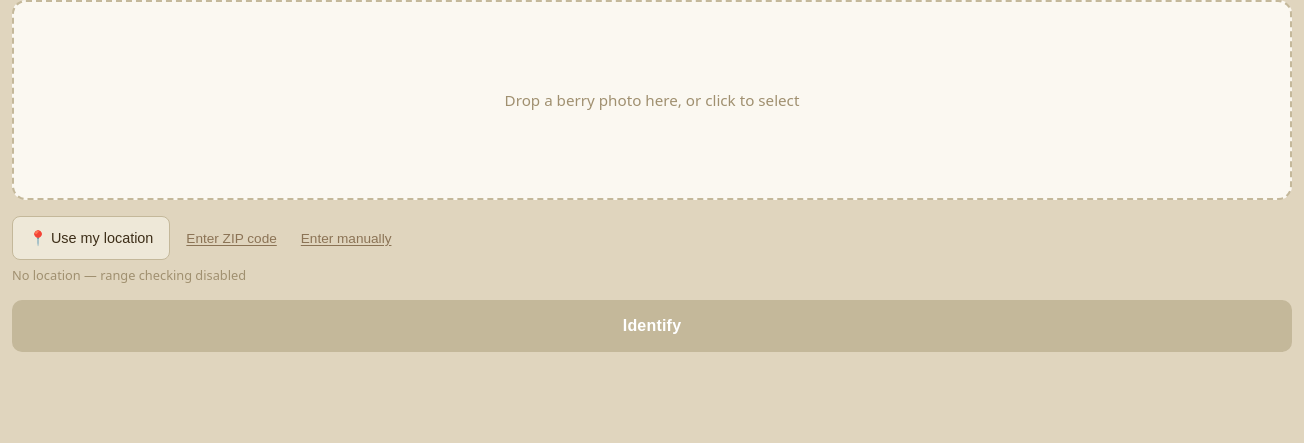
Scenario: ZIP code entry › geocodes a 5-digit ZIP and shows located coordinates
Click the button "Enter ZIP code".
click(232, 238)  # box left=178, top=216, right=285, bottom=260
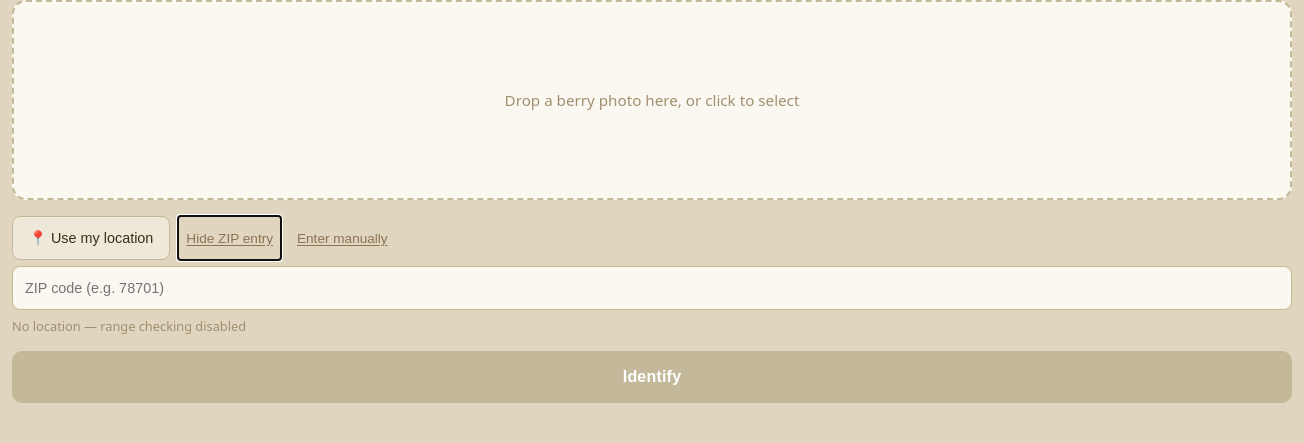
Type "78701" into the field labelled "ZIP code (e.g. 78701)".
click(652, 288); type("78701")  # box left=12, top=266, right=1292, bottom=310
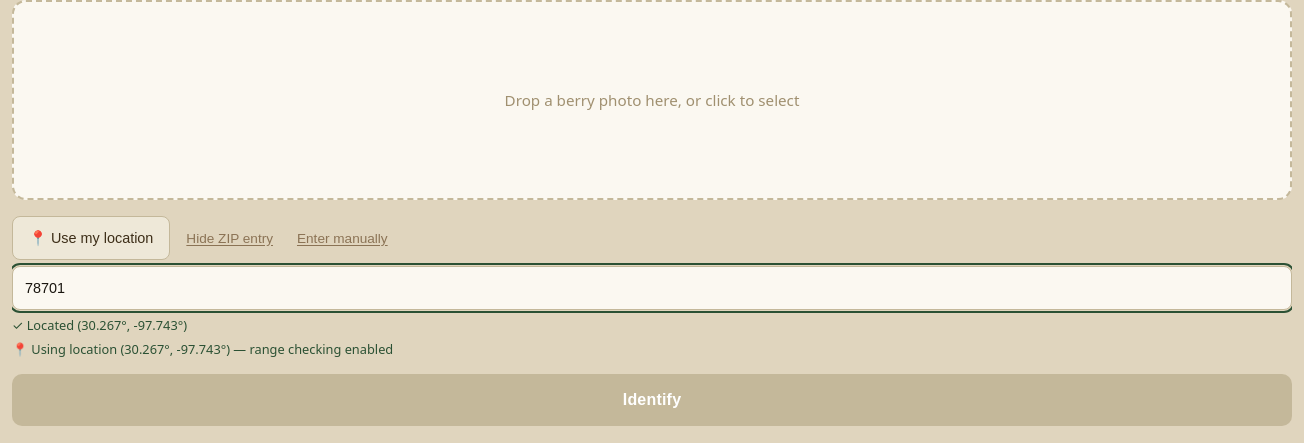
Expected: the text "✓ Located (30.267°, -97.743°)" is shown, left=12, top=316, right=187, bottom=334
